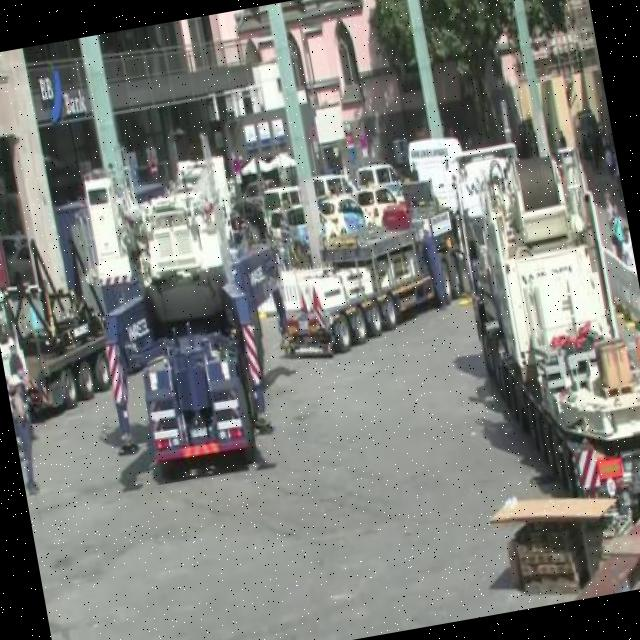Mobile Crane: (70, 150, 310, 483)
